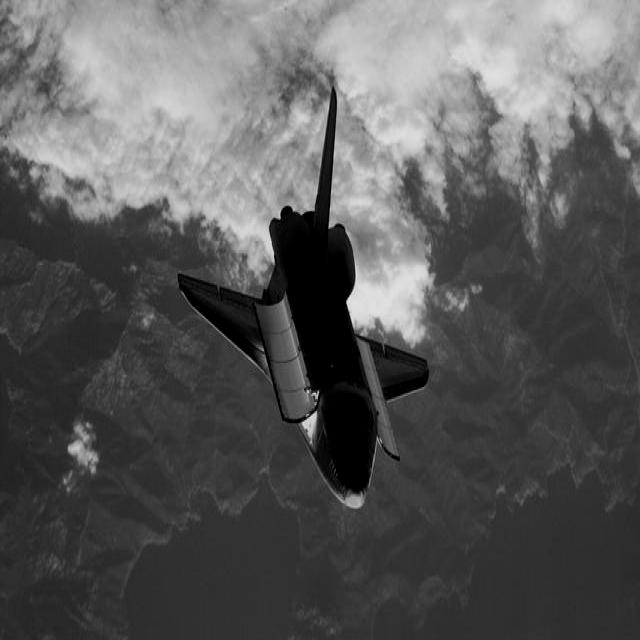satellite: (177, 93, 430, 510)
